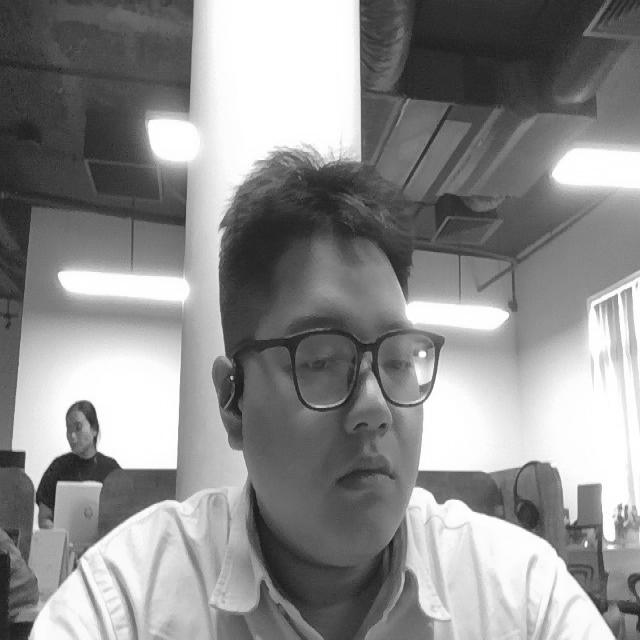real: (210, 135, 443, 573), (275, 317, 439, 412)
